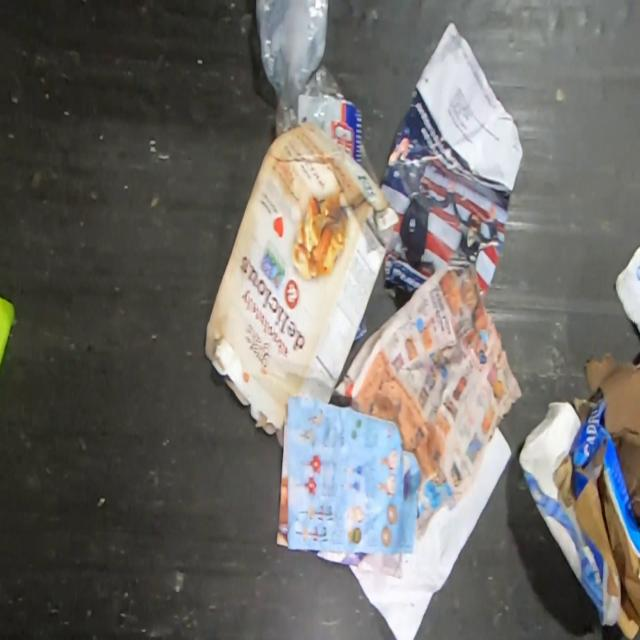cardboard: (204, 122, 399, 434), (552, 344, 640, 640)
rigid_plastic: (254, 0, 344, 135)
